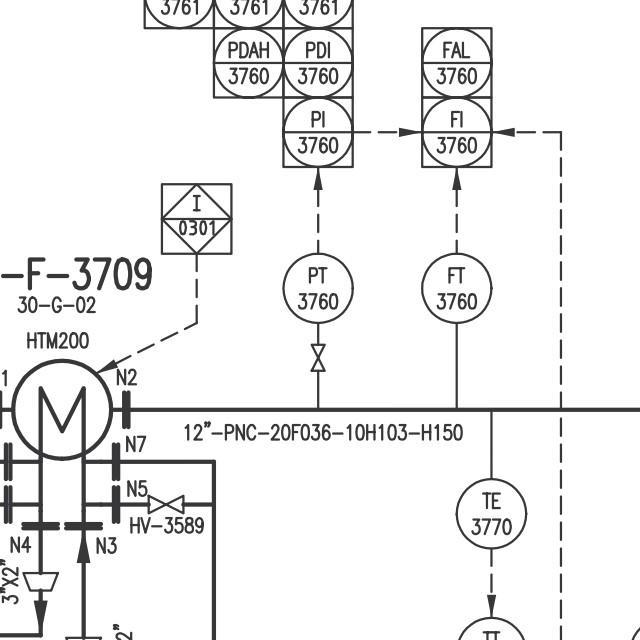GV: (145, 489, 188, 514), (307, 340, 330, 377)
HE: (10, 357, 111, 462)
SP: (19, 569, 63, 593)
